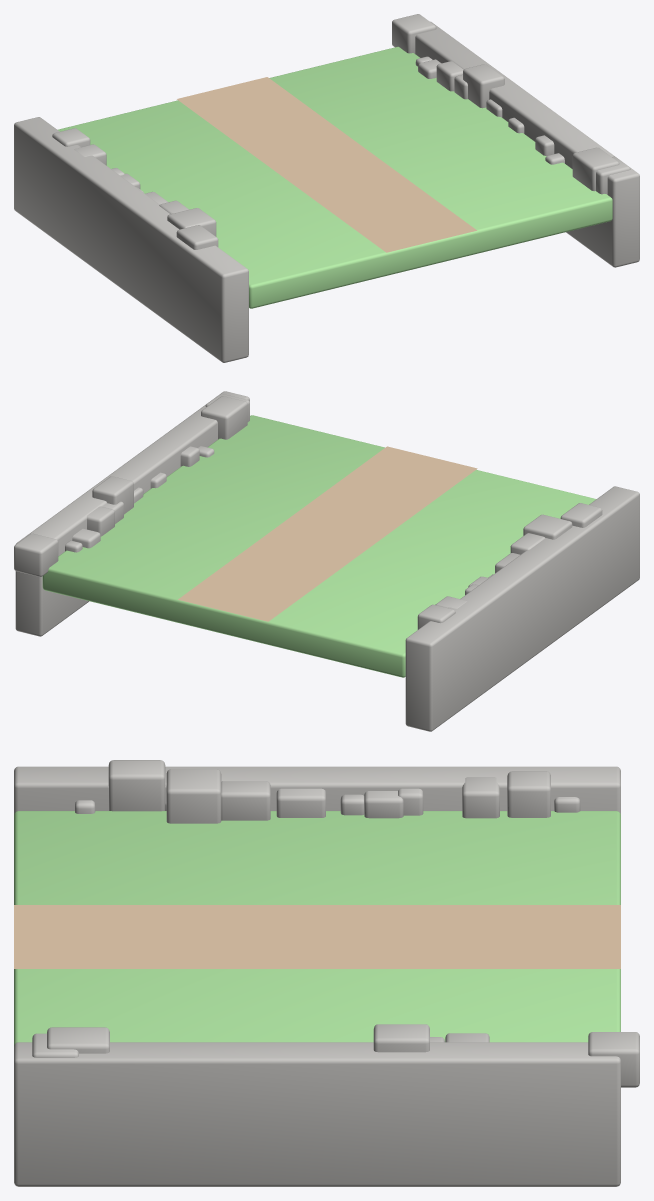
Rendered from chunk_flat.glb.
3 renders of one model, top to bottom at view 1: azimuth 30°, elevation 25°; view 2: azimuth 150°, elevation 25°; view 3: azimuth 270°, elevation 25°, orthographic. The views are drawn at different scales.
Visible parts, largest first — view 1: Chunk_Flat_surface, Chunk_Flat_cliff.001, Chunk_Flat_path, Chunk_Flat_cliff, Chunk_Flat_rock_r12, Chunk_Flat_rock_r5, Chunk_Flat_rock_r0, Chunk_Flat_rock_l9, Chunk_Flat_rock_l11, Chunk_Flat_rock_r3, Chunk_Flat_rock_l2, Chunk_Flat_rock_r13; view 2: Chunk_Flat_surface, Chunk_Flat_cliff.001, Chunk_Flat_path, Chunk_Flat_cliff, Chunk_Flat_rock_r0, Chunk_Flat_rock_r12, Chunk_Flat_rock_r5, Chunk_Flat_rock_l9, Chunk_Flat_rock_l11, Chunk_Flat_rock_r3, Chunk_Flat_rock_l2; view 3: Chunk_Flat_surface, Chunk_Flat_cliff, Chunk_Flat_path, Chunk_Flat_cliff.001, Chunk_Flat_rock_l9, Chunk_Flat_rock_l11, Chunk_Flat_rock_l2, Chunk_Flat_rock_l8, Chunk_Flat_rock_r0, Chunk_Flat_rock_r5, Chunk_Flat_rock_r12, Chunk_Flat_rock_l3 (+4 smaller).
Part boxes in pixels (bbox=[...]): Chunk_Flat_surface: bbox=[58, 46, 612, 308]; Chunk_Flat_cliff.001: bbox=[14, 117, 248, 362]; Chunk_Flat_path: bbox=[177, 77, 476, 252]; Chunk_Flat_cliff: bbox=[415, 21, 639, 267]; Chunk_Flat_rock_r12: bbox=[572, 147, 619, 191]; Chunk_Flat_rock_r5: bbox=[463, 64, 504, 108]; Chunk_Flat_rock_r0: bbox=[392, 14, 436, 53]; Chunk_Flat_rock_l9: bbox=[167, 208, 216, 236]; Chunk_Flat_rock_l11: bbox=[176, 225, 218, 249]; Chunk_Flat_rock_r3: bbox=[436, 61, 463, 91]; Chunk_Flat_rock_l2: bbox=[52, 128, 90, 146]; Chunk_Flat_rock_r13: bbox=[596, 156, 630, 194]; Chunk_Flat_surface: bbox=[42, 415, 596, 677]; Chunk_Flat_cliff.001: bbox=[405, 486, 639, 731]; Chunk_Flat_path: bbox=[178, 446, 477, 621]; Chunk_Flat_cliff: bbox=[15, 391, 249, 636]; Chunk_Flat_rock_r0: bbox=[14, 533, 58, 576]; Chunk_Flat_rock_r12: bbox=[201, 396, 247, 439]; Chunk_Flat_rock_r5: bbox=[92, 476, 133, 514]; Chunk_Flat_rock_l9: bbox=[523, 514, 572, 539]; Chunk_Flat_rock_l11: bbox=[560, 503, 602, 527]; Chunk_Flat_rock_r3: bbox=[87, 506, 114, 536]; Chunk_Flat_rock_l2: bbox=[417, 604, 455, 629]; Chunk_Flat_surface: bbox=[14, 811, 620, 1045]; Chunk_Flat_cliff: bbox=[14, 1042, 620, 1186]; Chunk_Flat_path: bbox=[14, 905, 620, 968]; Chunk_Flat_cliff.001: bbox=[14, 766, 620, 814]; Chunk_Flat_rock_l9: bbox=[166, 769, 221, 823]; Chunk_Flat_rock_l11: bbox=[108, 760, 165, 811]; Chunk_Flat_rock_l2: bbox=[507, 771, 550, 817]; Chunk_Flat_rock_l8: bbox=[221, 781, 270, 820]; Chunk_Flat_rock_r0: bbox=[588, 1032, 639, 1087]; Chunk_Flat_rock_r5: bbox=[373, 1024, 429, 1052]; Chunk_Flat_rock_r12: bbox=[47, 1027, 109, 1053]; Chunk_Flat_rock_l3: bbox=[462, 777, 499, 818].
Size of the model in its own units: 27.6 by 6.14 by 24.75.
